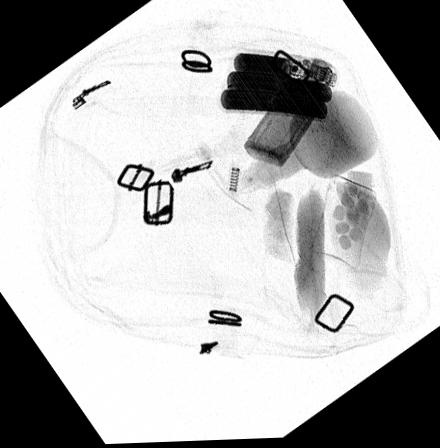Powerbank: (215, 49, 338, 126)
